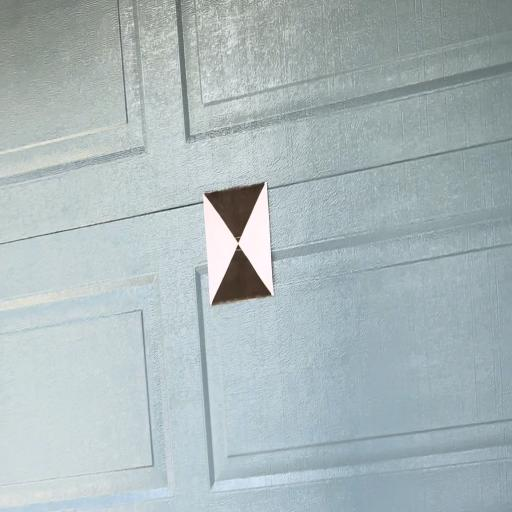target: (204, 182, 274, 304)
